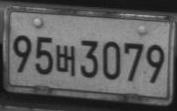0: (101, 40, 121, 81)
3: (79, 39, 98, 78)
5: (35, 35, 54, 75)
7: (123, 41, 144, 83)
9: (145, 42, 165, 83), (12, 34, 32, 72)
버: (55, 44, 76, 76)
